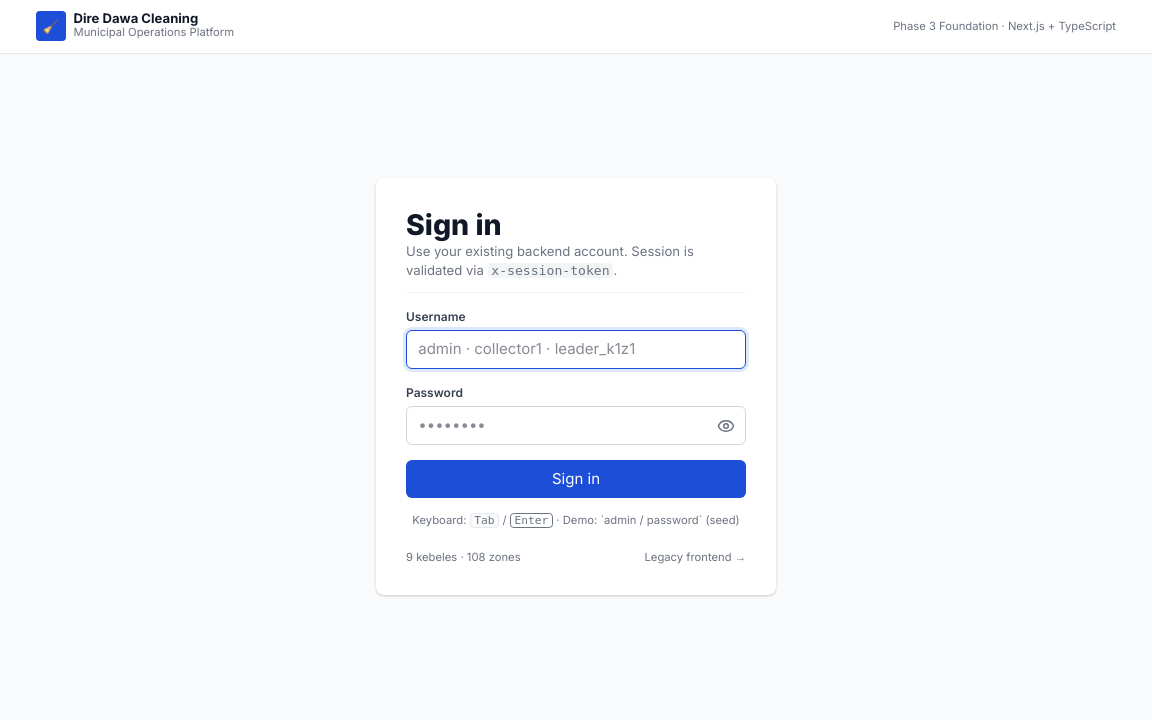
it: Login page › shows error on failed login without exposing stack
Type "admin" into the field labelled "Username" at [576, 349], box [406,330,746,369]
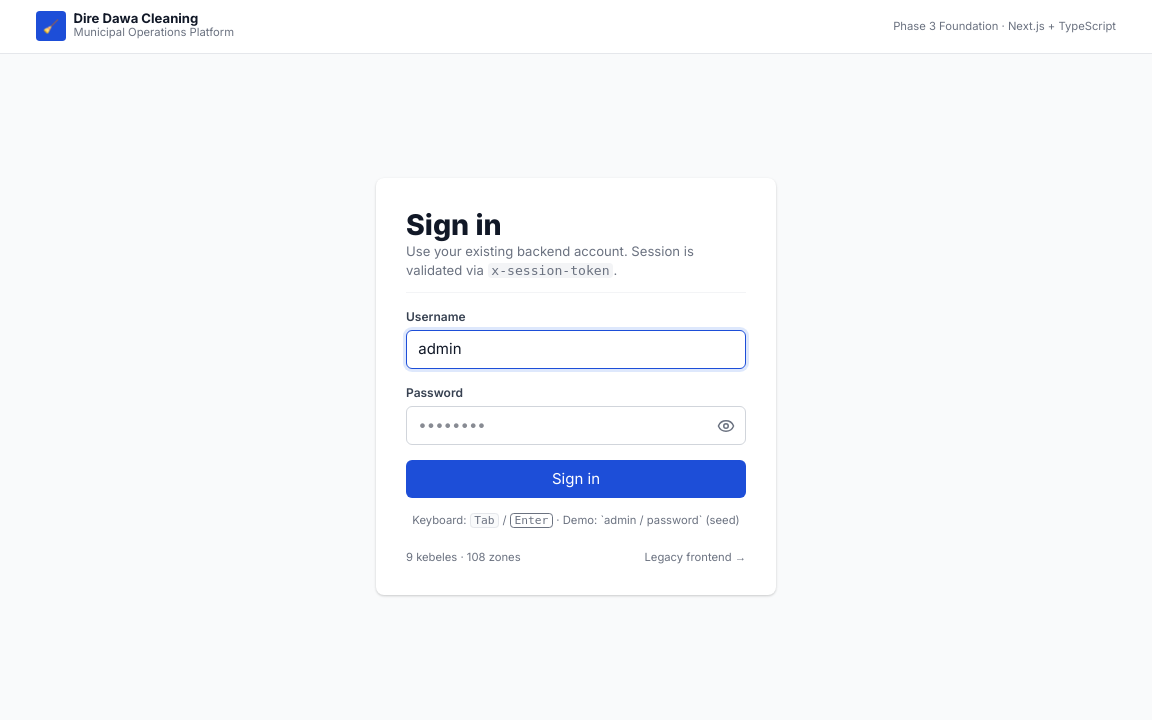
Type "wrong" into the password field labelled "Password" at [576, 426], box [406,406,746,446]
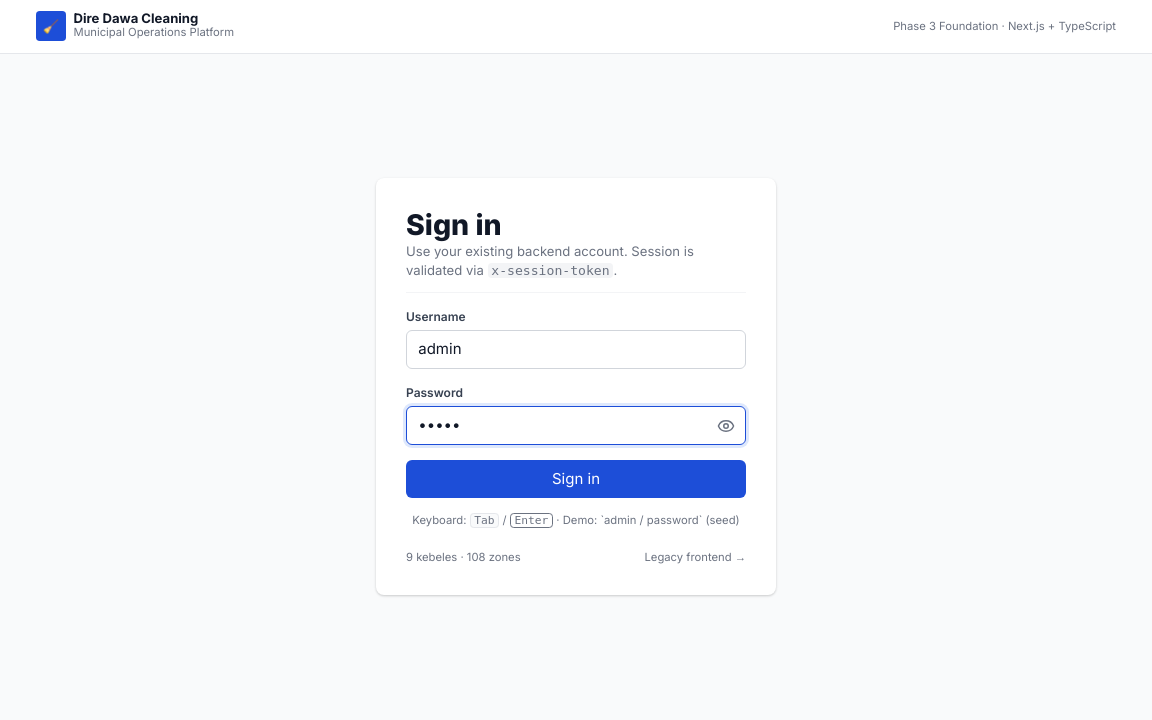
Click the button "Sign in" at [576, 479], box [406,460,746,498]
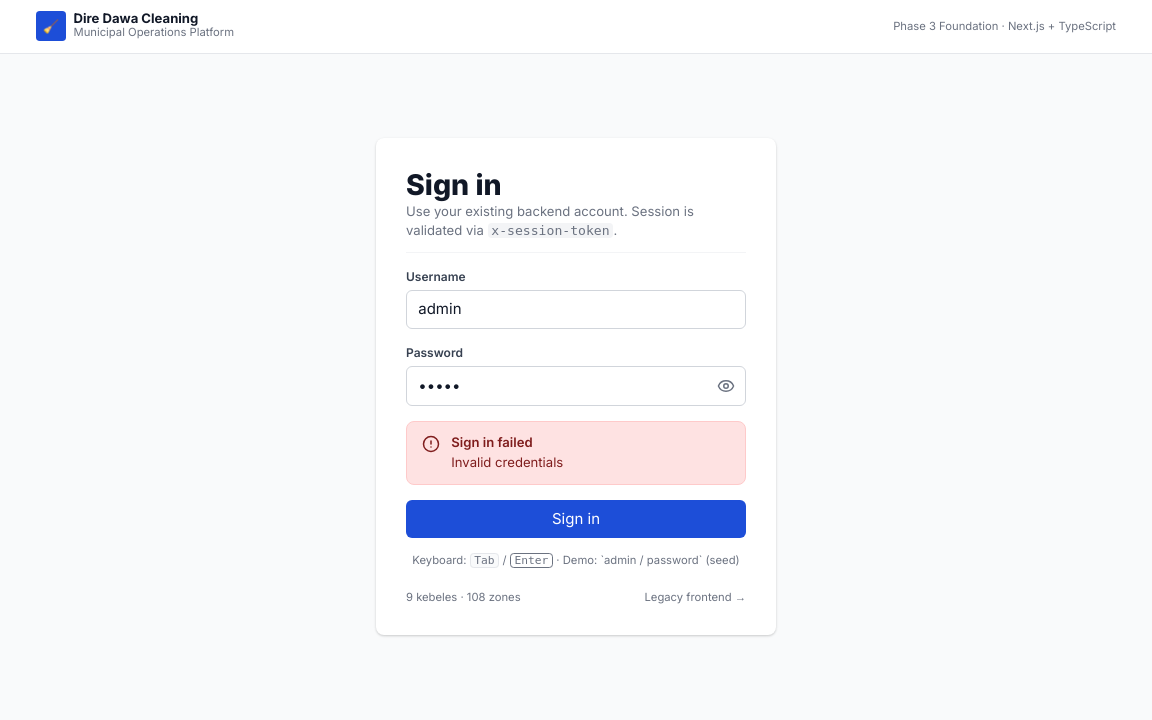
Now the text "Invalid credentials" is shown, box [451,452,563,473]
